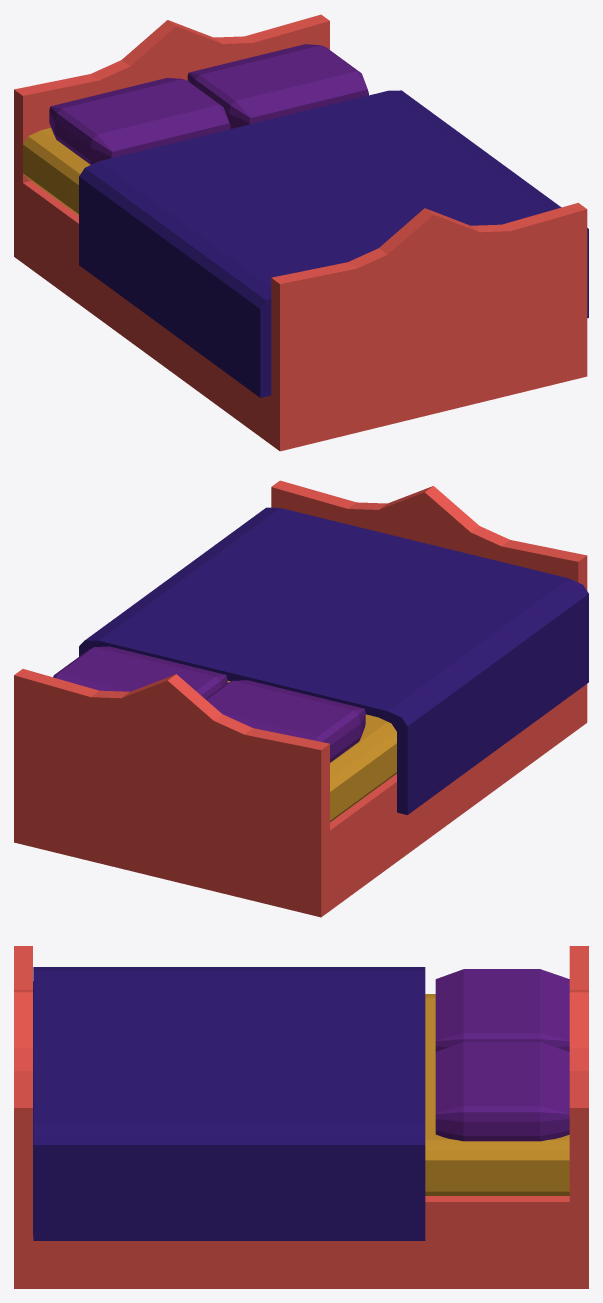
Rendered from Bed.fbx.
3 views of the same model, one above another, from view 1: azimuth 30°, elevation 25°; view 2: azimuth 150°, elevation 25°; view 3: azimuth 270°, elevation 25° (orthographic). The views are drawn at different scales.
Visible parts, largest first — view 1: Bed, Duvet, Pillow, Pillow.001, Mattress; view 2: Bed, Duvet, Pillow, Pillow.001, Mattress; view 3: Duvet, Bed, Pillow.001, Pillow, Mattress.
Boxes of the visible parts, x1,y1,x2,y2 form: Bed: (14, 14, 587, 451); Duvet: (79, 90, 588, 397); Pillow: (49, 78, 230, 164); Pillow.001: (187, 44, 368, 128); Mattress: (23, 128, 90, 215); Bed: (14, 480, 587, 917); Duvet: (79, 507, 588, 814); Pillow: (205, 680, 365, 762); Pillow.001: (53, 646, 227, 698); Mattress: (227, 681, 396, 822); Duvet: (33, 967, 425, 1240); Bed: (14, 946, 588, 1288); Pillow.001: (435, 1042, 569, 1141); Pillow: (435, 969, 569, 1051); Mattress: (425, 994, 569, 1195).
Size of the model in its own units: 214 by 124 by 300.
